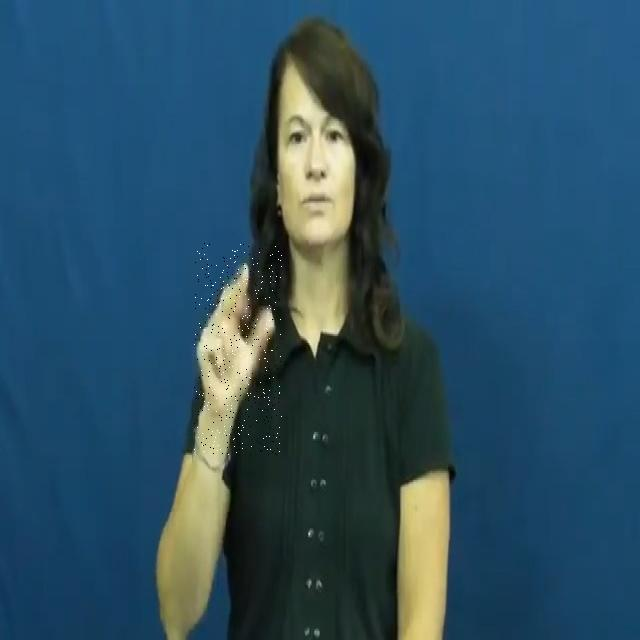urgent: (194, 243, 282, 455)
